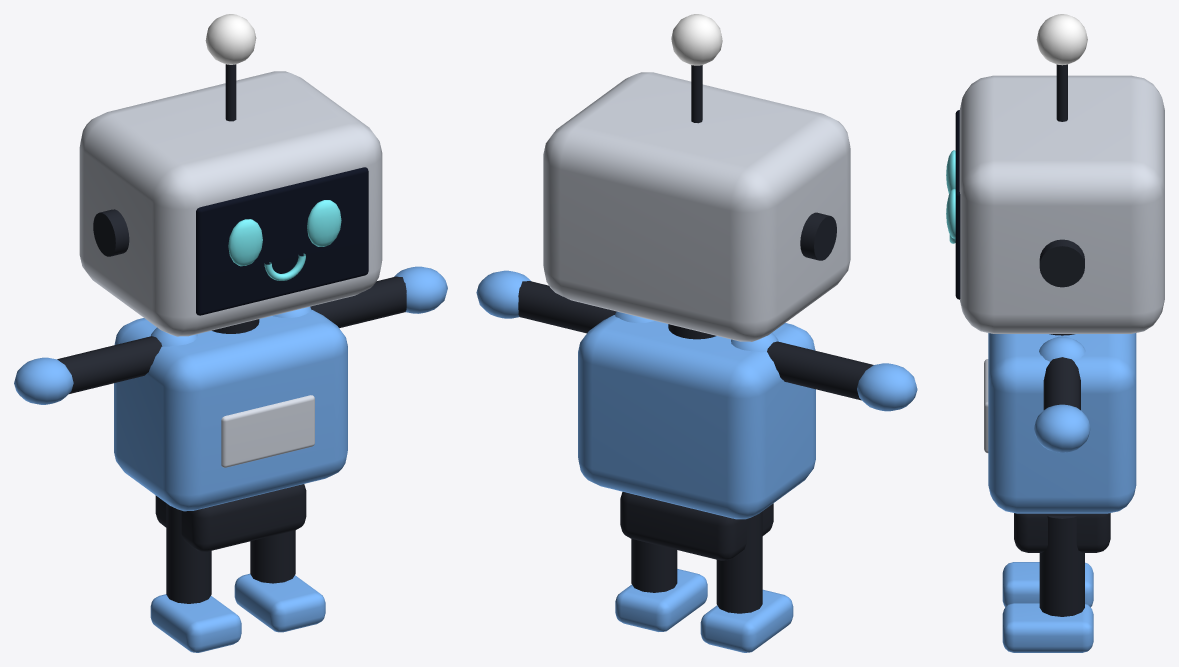
Rendered from bot.glb.
3 renders of one model, left to right at view 1: azimuth 30°, elevation 25°; view 2: azimuth 150°, elevation 25°; view 3: azimuth 270°, elevation 25°, orthographic.
Parts seen in each view (by area): view 1: skull, torso, screen, pelvis, belly, boot_l, boot_r, eye_-1, forearm_r, hand_r, antenna, bulb (+7 smaller); view 2: skull, torso, pelvis, boot_r, boot_l, hand_r, forearm_r, antenna, bulb, forearm_l, shin_r, shin_l (+4 smaller); view 3: skull, torso, boot_l, pelvis, antenna, thigh_l, hand_l, bulb, boot_r, shin_l, forearm_l, screen (+4 smaller).
Boxes of the visible parts, x1,y1,x2,y2 form: skull: (79,71,382,336); torso: (114,310,347,511); screen: (196,167,368,315); pelvis: (155,484,306,551); belly: (221,395,314,467); boot_l: (234,573,325,632); boot_r: (150,594,241,652); eye_-1: (228,200,341,280); forearm_r: (57,345,129,393); hand_r: (14,357,73,404); antenna: (93,64,236,256); bulb: (205,14,256,64); skull: (543,72,850,341); torso: (578,315,815,519); pelvis: (620,492,773,560); boot_r: (700,589,793,652); boot_l: (615,569,707,631); hand_r: (857,363,917,411); forearm_r: (800,351,873,400); antenna: (691,65,836,260); bulb: (671,14,722,65); forearm_l: (518,281,579,331); shin_r: (716,564,762,613); shin_l: (631,542,677,592); skull: (959,75,1164,333); torso: (988,333,1136,513); boot_l: (1002,603,1093,652); pelvis: (1014,513,1110,552); antenna: (1039,64,1084,287); thigh_l: (1039,516,1084,580); hand_l: (1034,404,1090,452); bulb: (1036,14,1087,65); boot_r: (1002,562,1093,607); shin_l: (1039,568,1084,616); forearm_l: (1043,375,1080,410); screen: (955,110,960,299).
Bounding box in the file's own units: 1.74 × 2.35 × 0.768.
